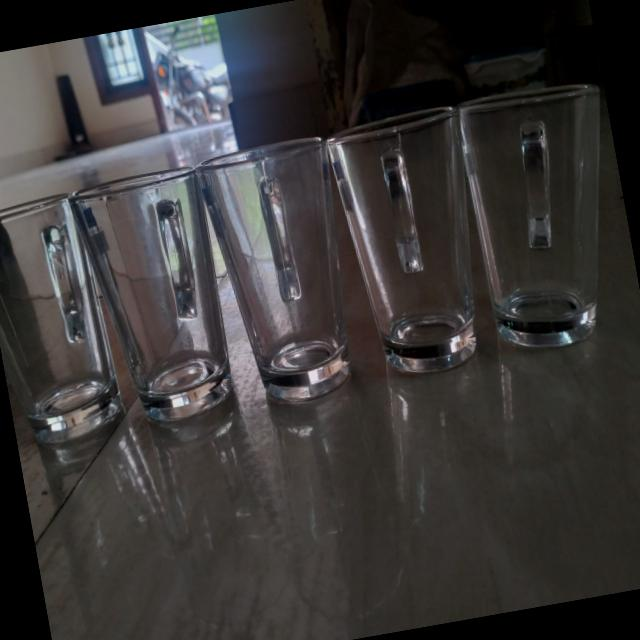glass-VX4N: (453, 78, 640, 353), (324, 110, 494, 380), (198, 138, 362, 411), (74, 166, 240, 431), (0, 196, 117, 454)
